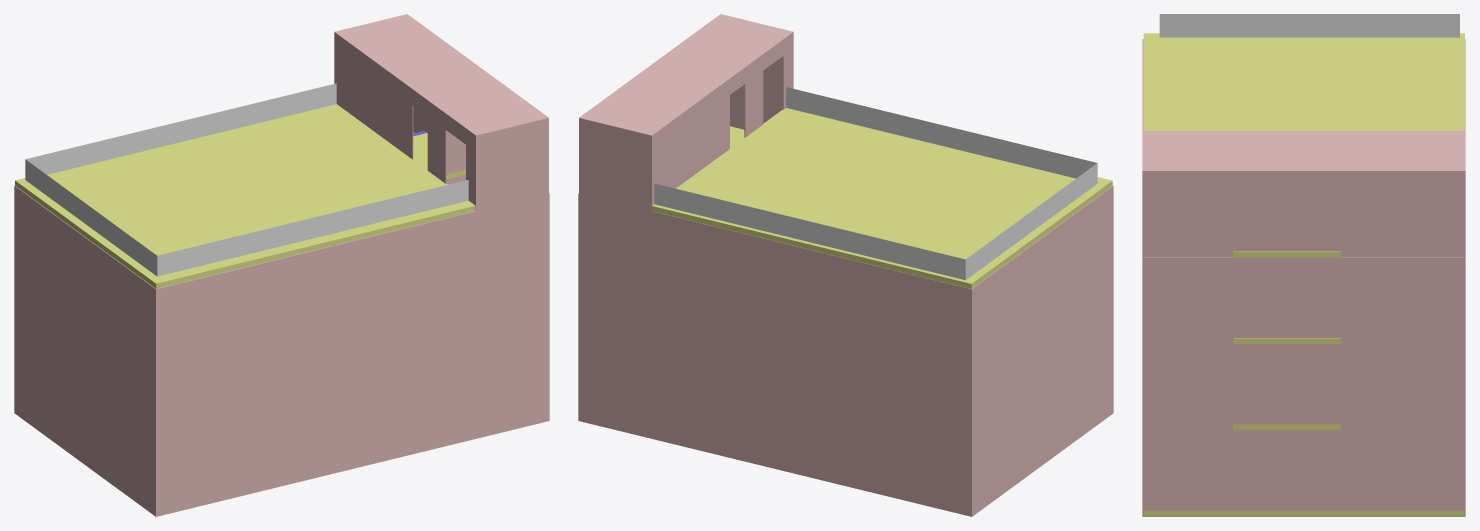
Rendered from model_Building.fbx.
3 views of the same model, side by side, from view 1: azimuth 30°, elevation 25°; view 2: azimuth 150°, elevation 25°; view 3: azimuth 270°, elevation 25° (orthographic). The views are drawn at different scales.
Visible parts, largest first — view 1: F4, F3, F1, F2; view 2: F4, F3, F1, F2; view 3: F4, F3, F1, F2.
Part boxes in pixels (x1,y1,x2,y2): F4: (15, 14, 548, 288); F3: (14, 106, 549, 364); F1: (14, 337, 549, 516); F2: (14, 261, 549, 440); F4: (579, 14, 1112, 288); F3: (578, 100, 1113, 364); F1: (578, 337, 1113, 516); F2: (578, 261, 1113, 440); F4: (1142, 14, 1465, 257); F3: (1142, 39, 1465, 343); F1: (1142, 430, 1465, 516); F2: (1142, 344, 1465, 430).
Size of the model in its own units: 263094 by 193551 by 164059.
